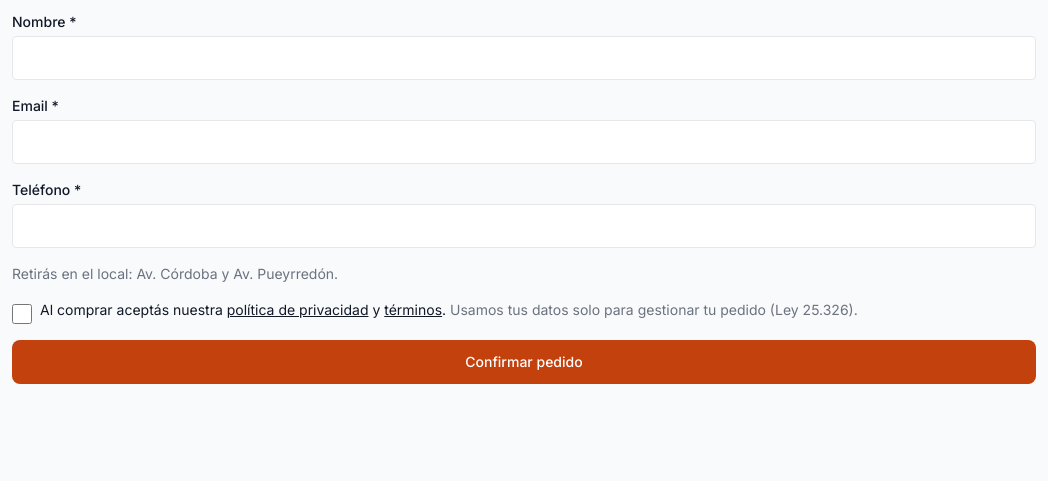
a11y — checkout (WCAG 2.1 AA) › CheckoutForm con errores visibles: axe sin violaciones
Click the button "Confirmar pedido" at point(524, 362), box [12,340,1036,384]
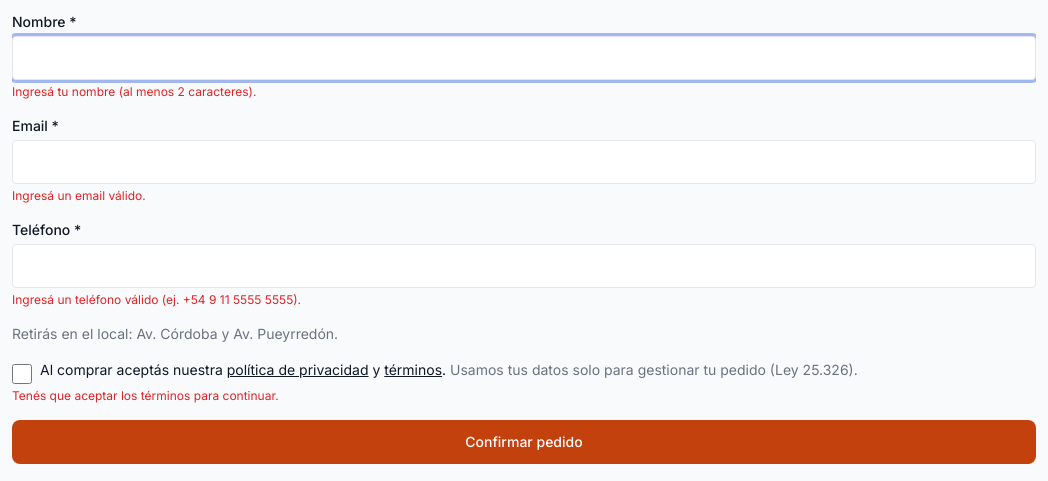
Expected: the text "Ingresá tu nombre (al menos 2 caracteres)." is shown, [12,84,256,99]
